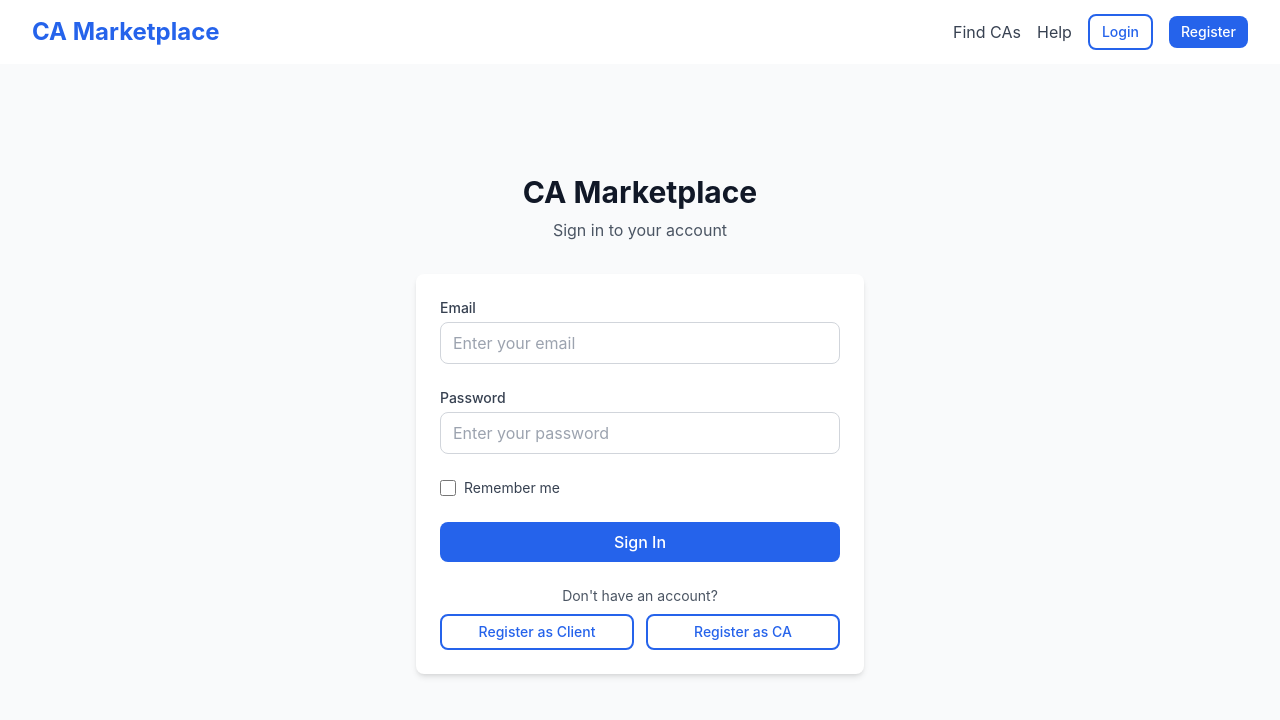
Test: Authentication Flows › Client Login › should show error message for invalid credentials
In the field with placeholder "Enter your email": (640, 343) [440,322,840,364], type "invalid@example.com"
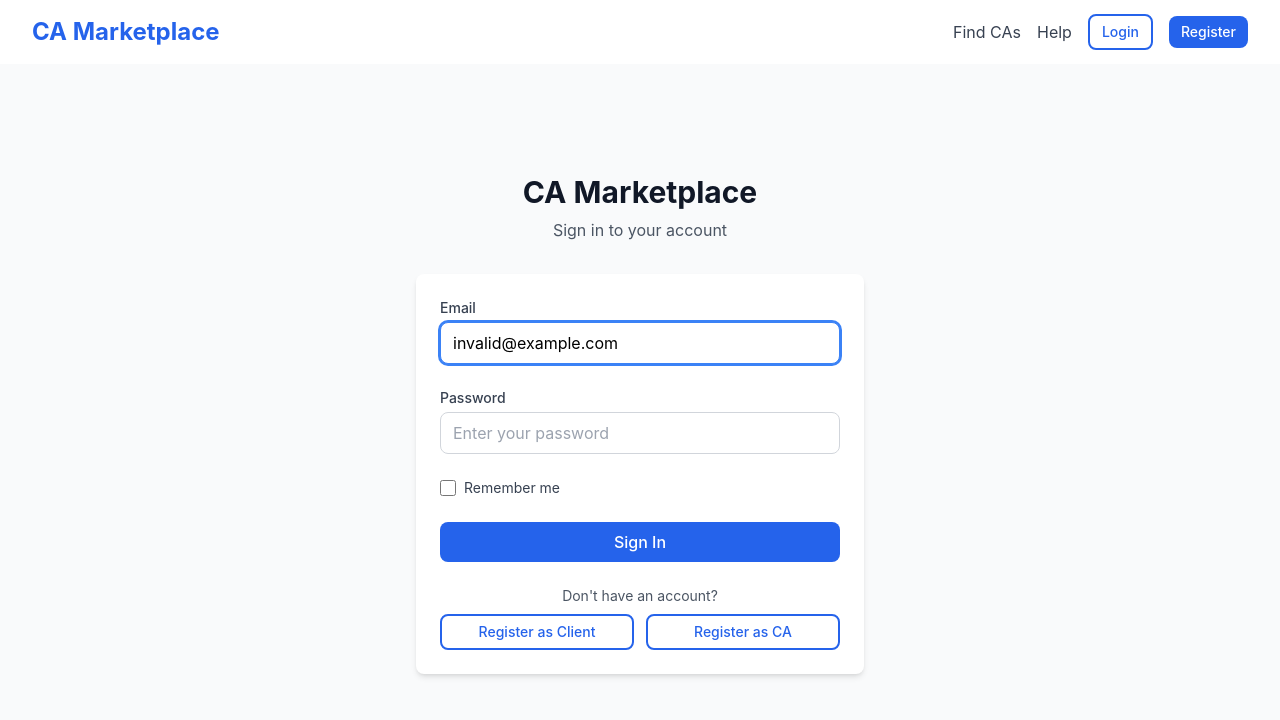
In the password field with placeholder "Enter your password": (640, 433) [440,412,840,454], type "wrongpassword"
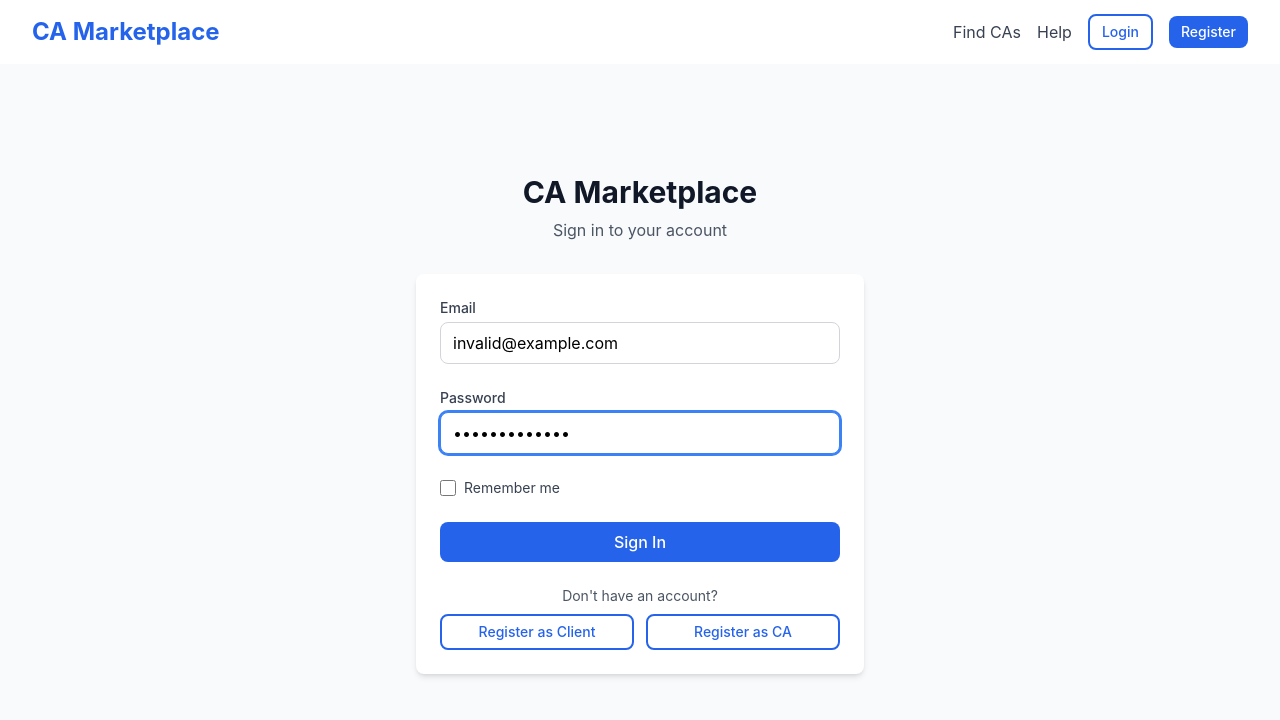
Click the button "Sign In": (640, 542) [440,522,840,562]
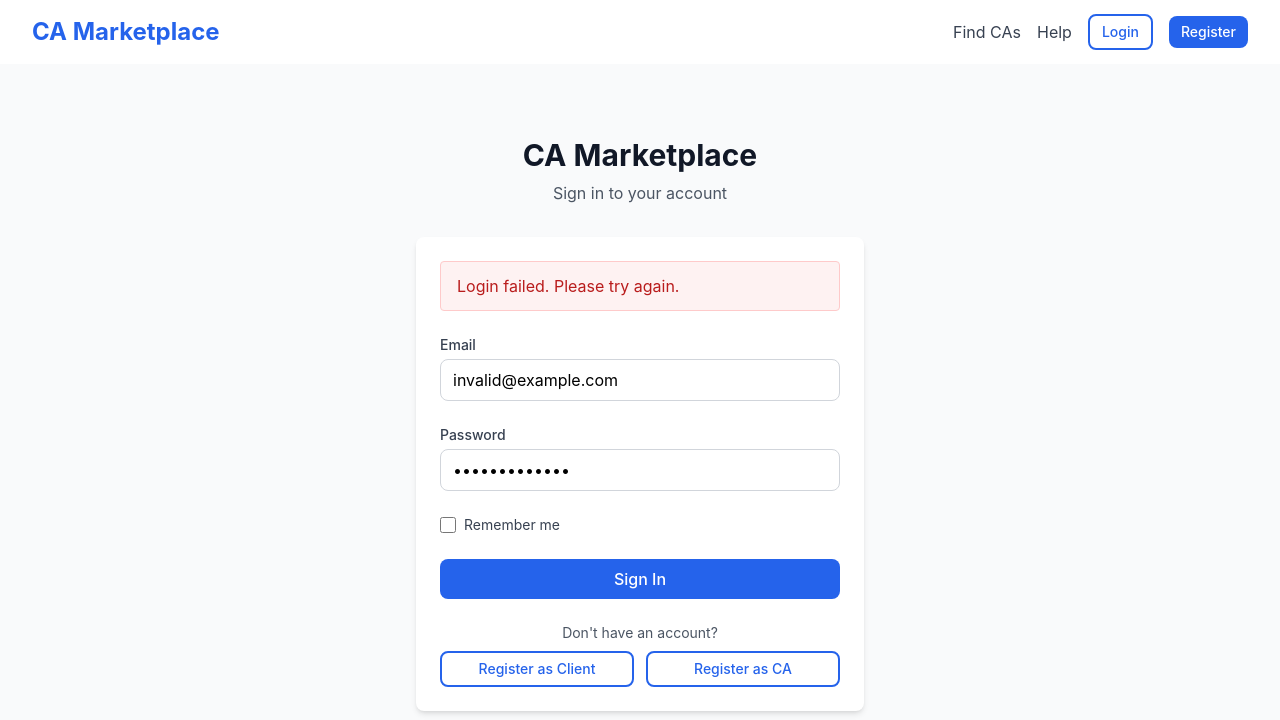
Expected: the text "Login failed. Please try again." is shown, [440,261,840,311]
